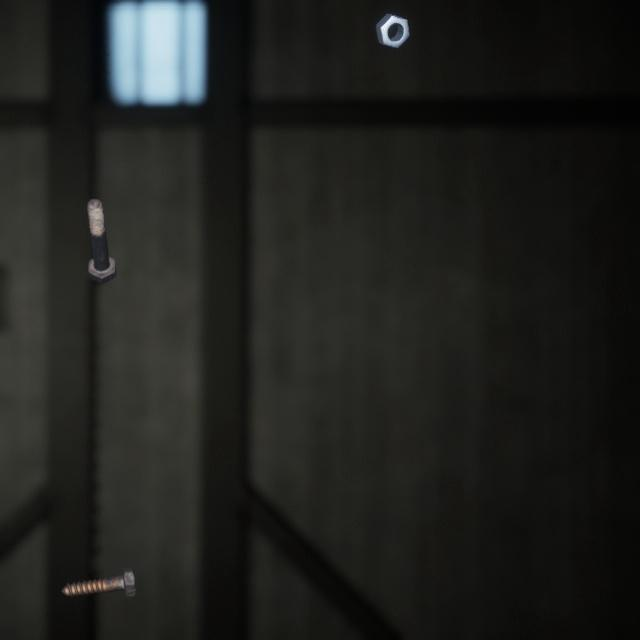bolt: (82, 178, 120, 272), (57, 540, 141, 578)
nut: (371, 1, 414, 45)
